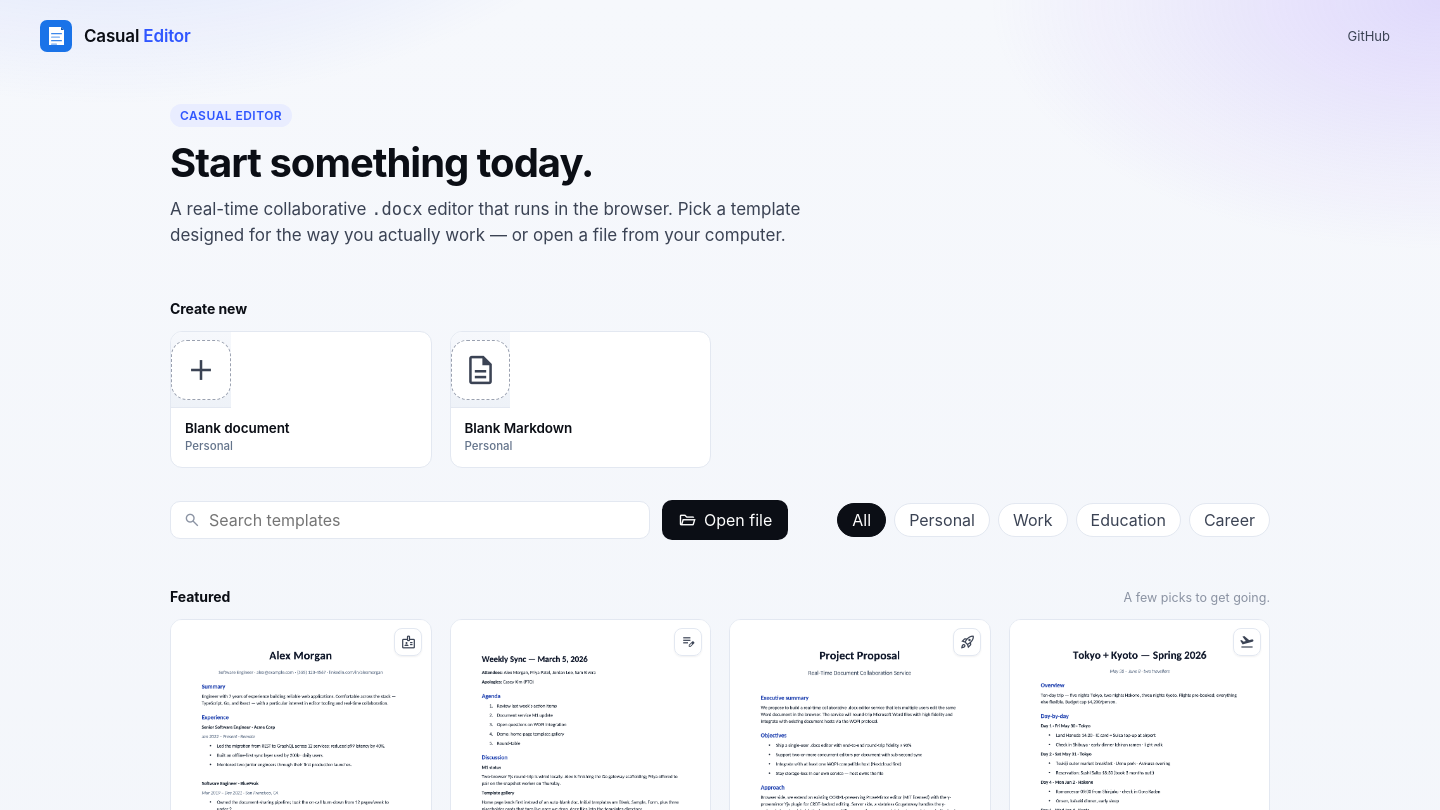
blank Markdown clears the desktop file binding
What coordinates should you click on to do the following:
click the button with aria-label "Blank Markdown — Personal"
I would click on:
 (480, 370)
Its box is [450, 331, 711, 468].
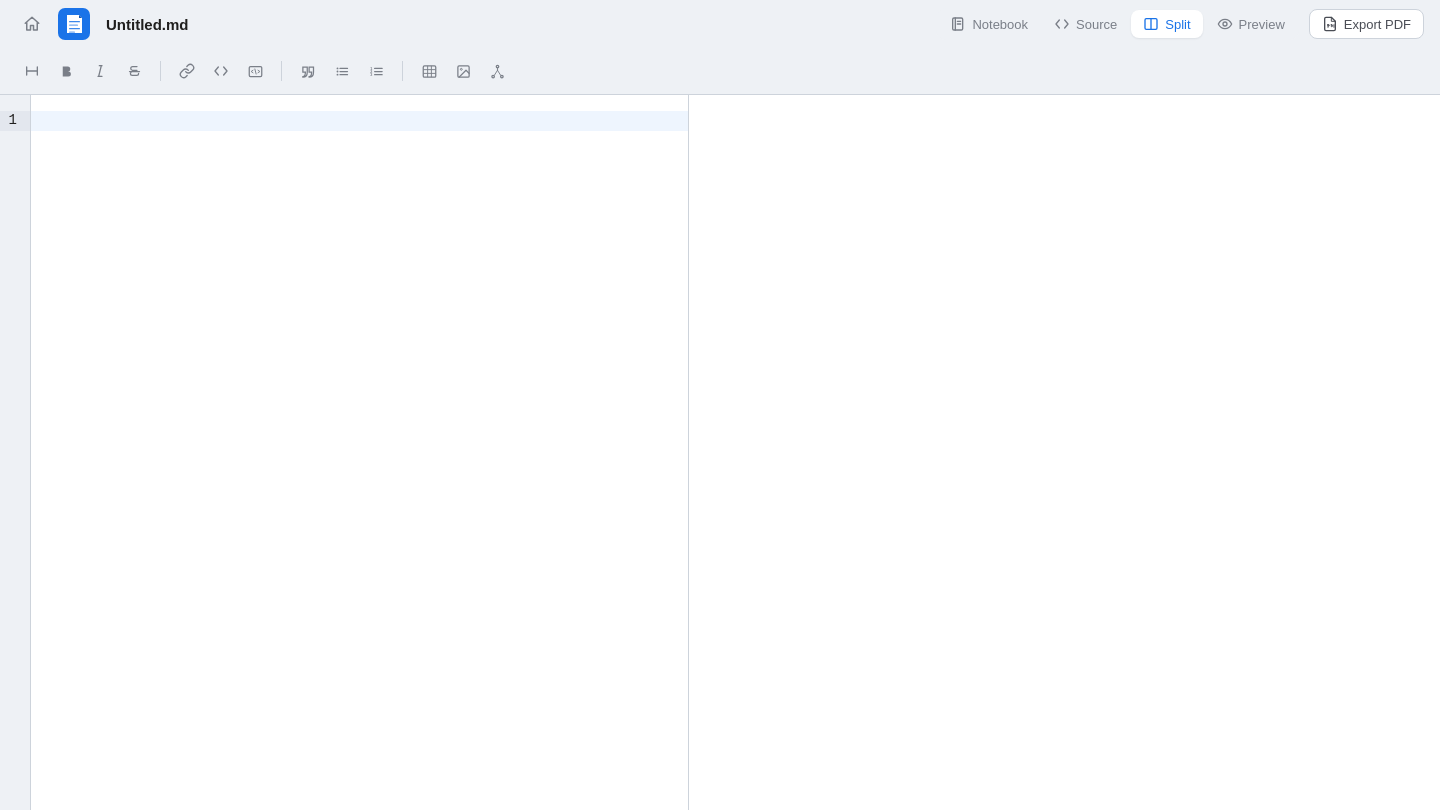
Now the element with test id "markdown-editor" is shown
